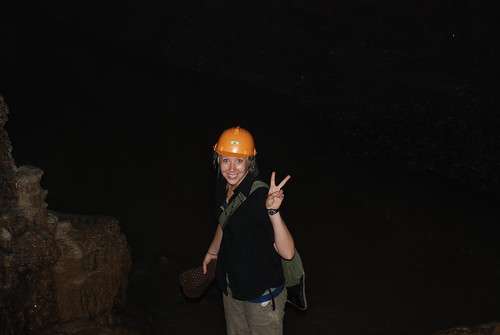person hardhat: (213, 126, 257, 186)
